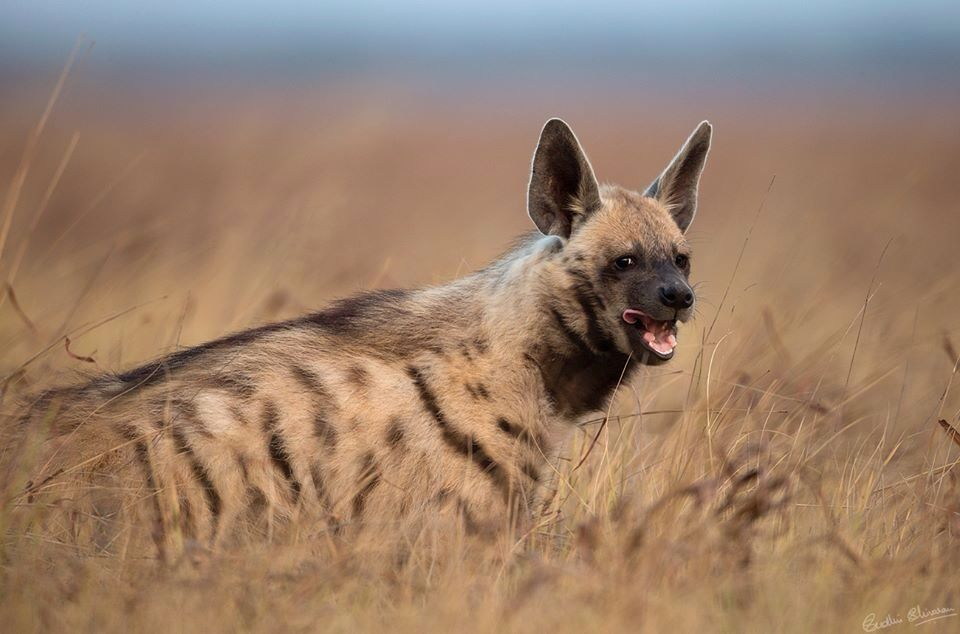hyena: (1, 122, 712, 588)
